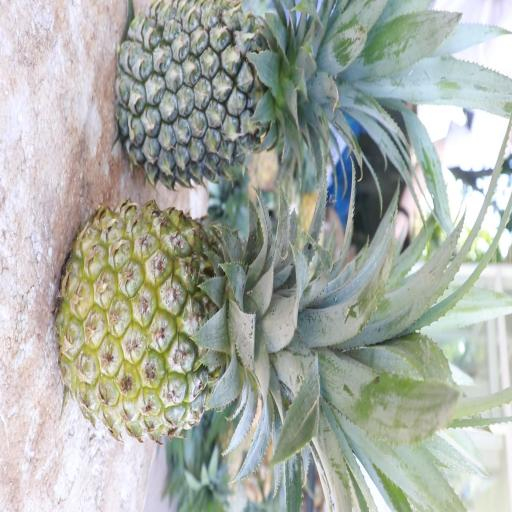------------------------------: (52, 197, 344, 448)
